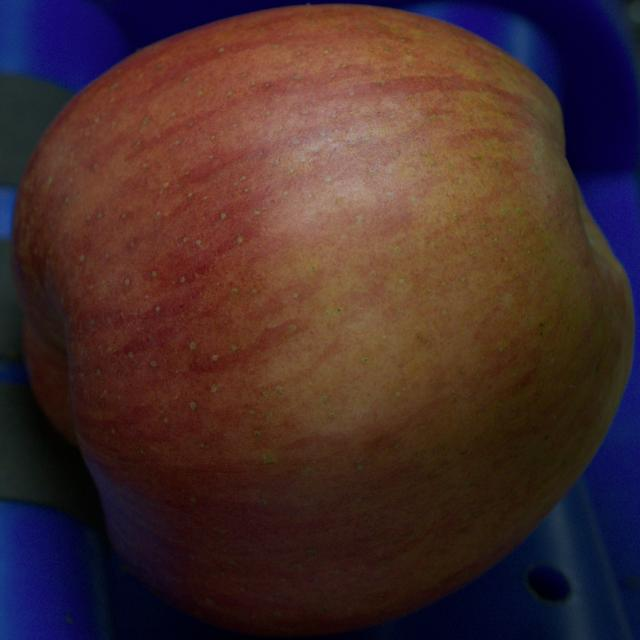apple: (12, 5, 633, 635)
